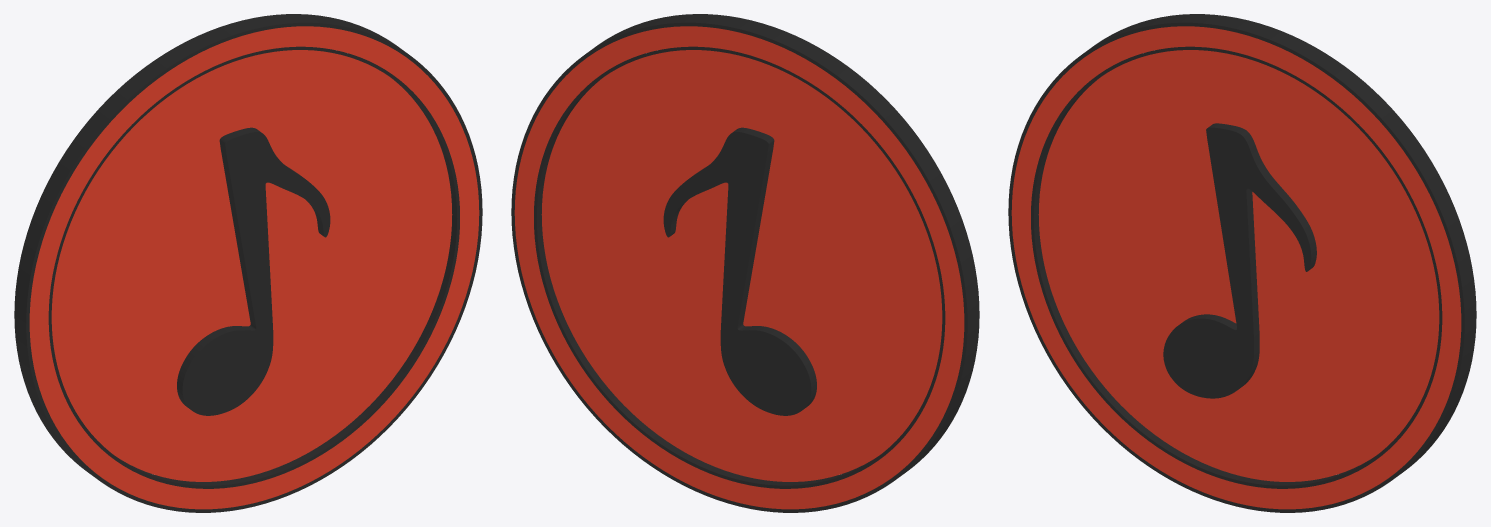
The model's file is MedalNote_2.glb.
3 views of the same model, side by side, from view 1: azimuth 30°, elevation 25°; view 2: azimuth 150°, elevation 25°; view 3: azimuth 330°, elevation 25° (orthographic).
Parts seen in each view (by area): view 1: Circle, Note_2; view 2: Circle, Note_2; view 3: Circle, Note_2.
Boxes of the visible parts, left/top/right/bottom form: Circle: left=14, top=14, right=482, bottom=512; Note_2: left=177, top=127, right=330, bottom=415; Circle: left=511, top=14, right=979, bottom=512; Note_2: left=663, top=127, right=816, bottom=415; Circle: left=1008, top=14, right=1476, bottom=512; Note_2: left=1163, top=123, right=1316, bottom=398.
Bounding box in the file's own units: 2 × 2 × 0.1.
